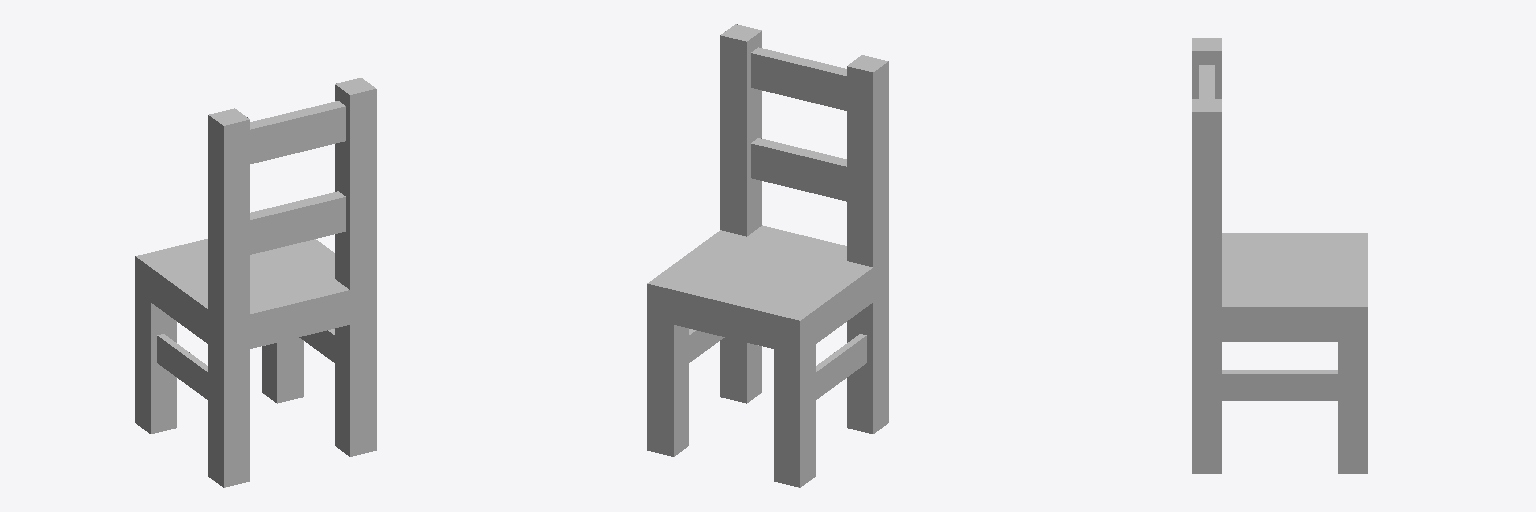
The model's file is purple_chair.obj.
The picture shows the model from 3 angles: view 1: azimuth 30°, elevation 25°; view 2: azimuth 150°, elevation 25°; view 3: azimuth 270°, elevation 25°; orthographic projection.
Parts seen in each view (by area): view 1: Chair 2; view 2: Chair 2; view 3: Chair 2.
Boxes of the visible parts, x1,y1,x2,y2 form: Chair 2: [135, 78, 376, 487]; Chair 2: [647, 24, 888, 487]; Chair 2: [1192, 38, 1367, 473].
Size of the model in its own units: 23 by 52 by 23.